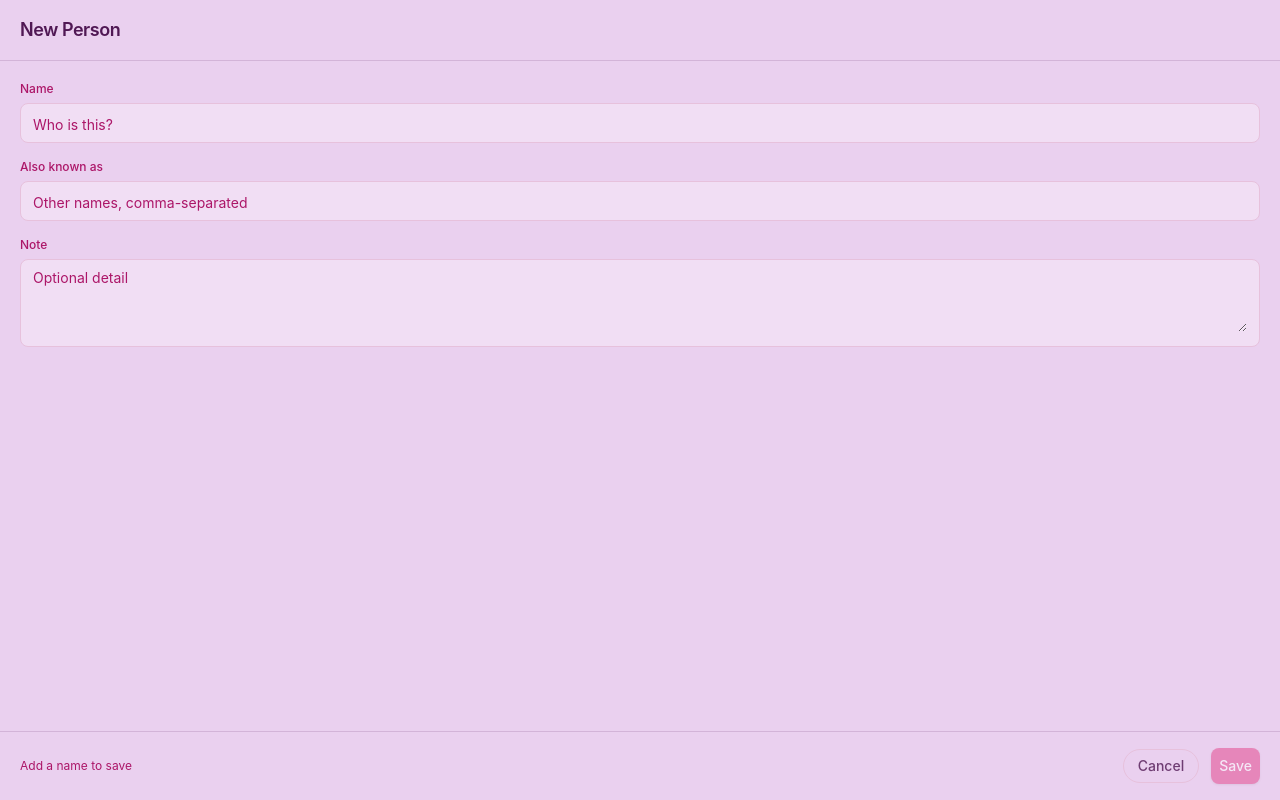
Test: PersonEditor Save gate › disables Save while the name is empty and enables it once filled
This screenshot has width=1280, height=800.
Expected: the button "Save" is disabled, 1211,748 -> 1260,784
In the field labelled "Name": [640, 125] box 33,115 -> 1247,135, type "Bob"
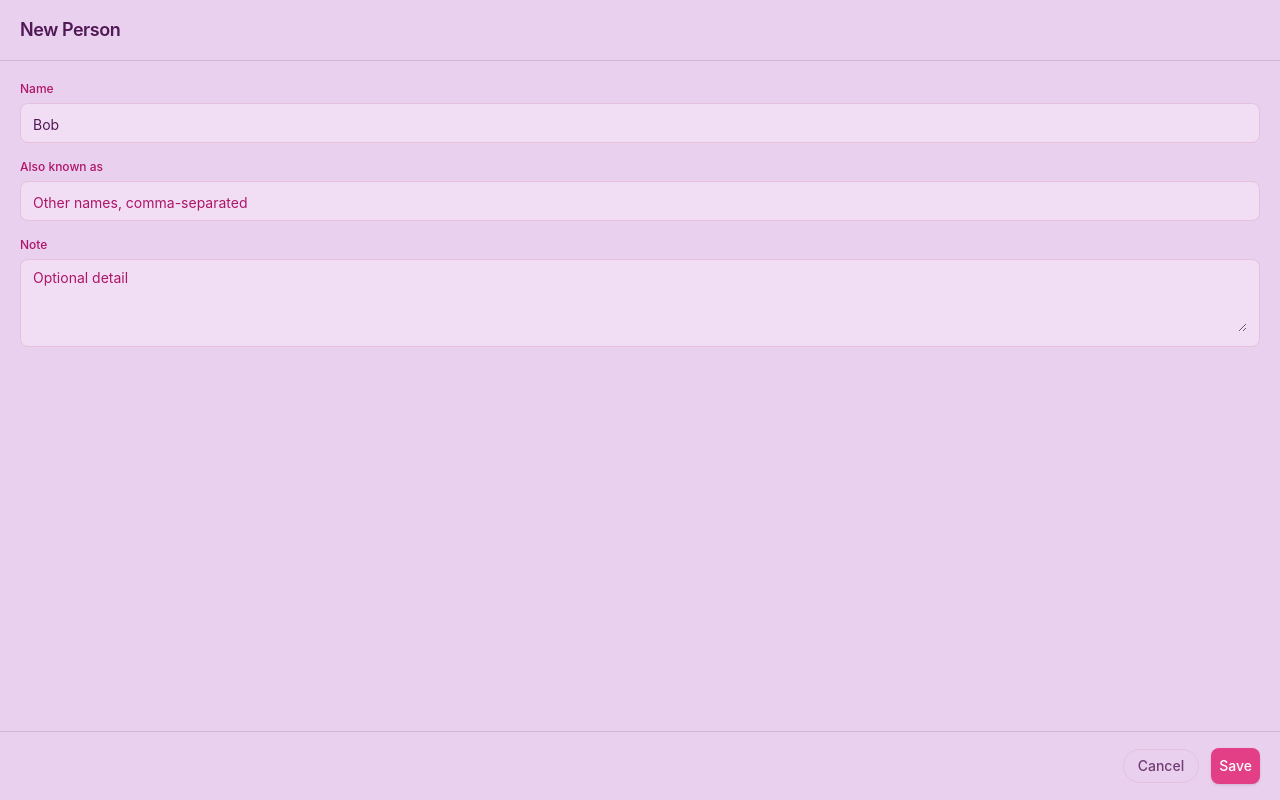
Expected: the button "Save" is enabled, 1211,748 -> 1260,784
